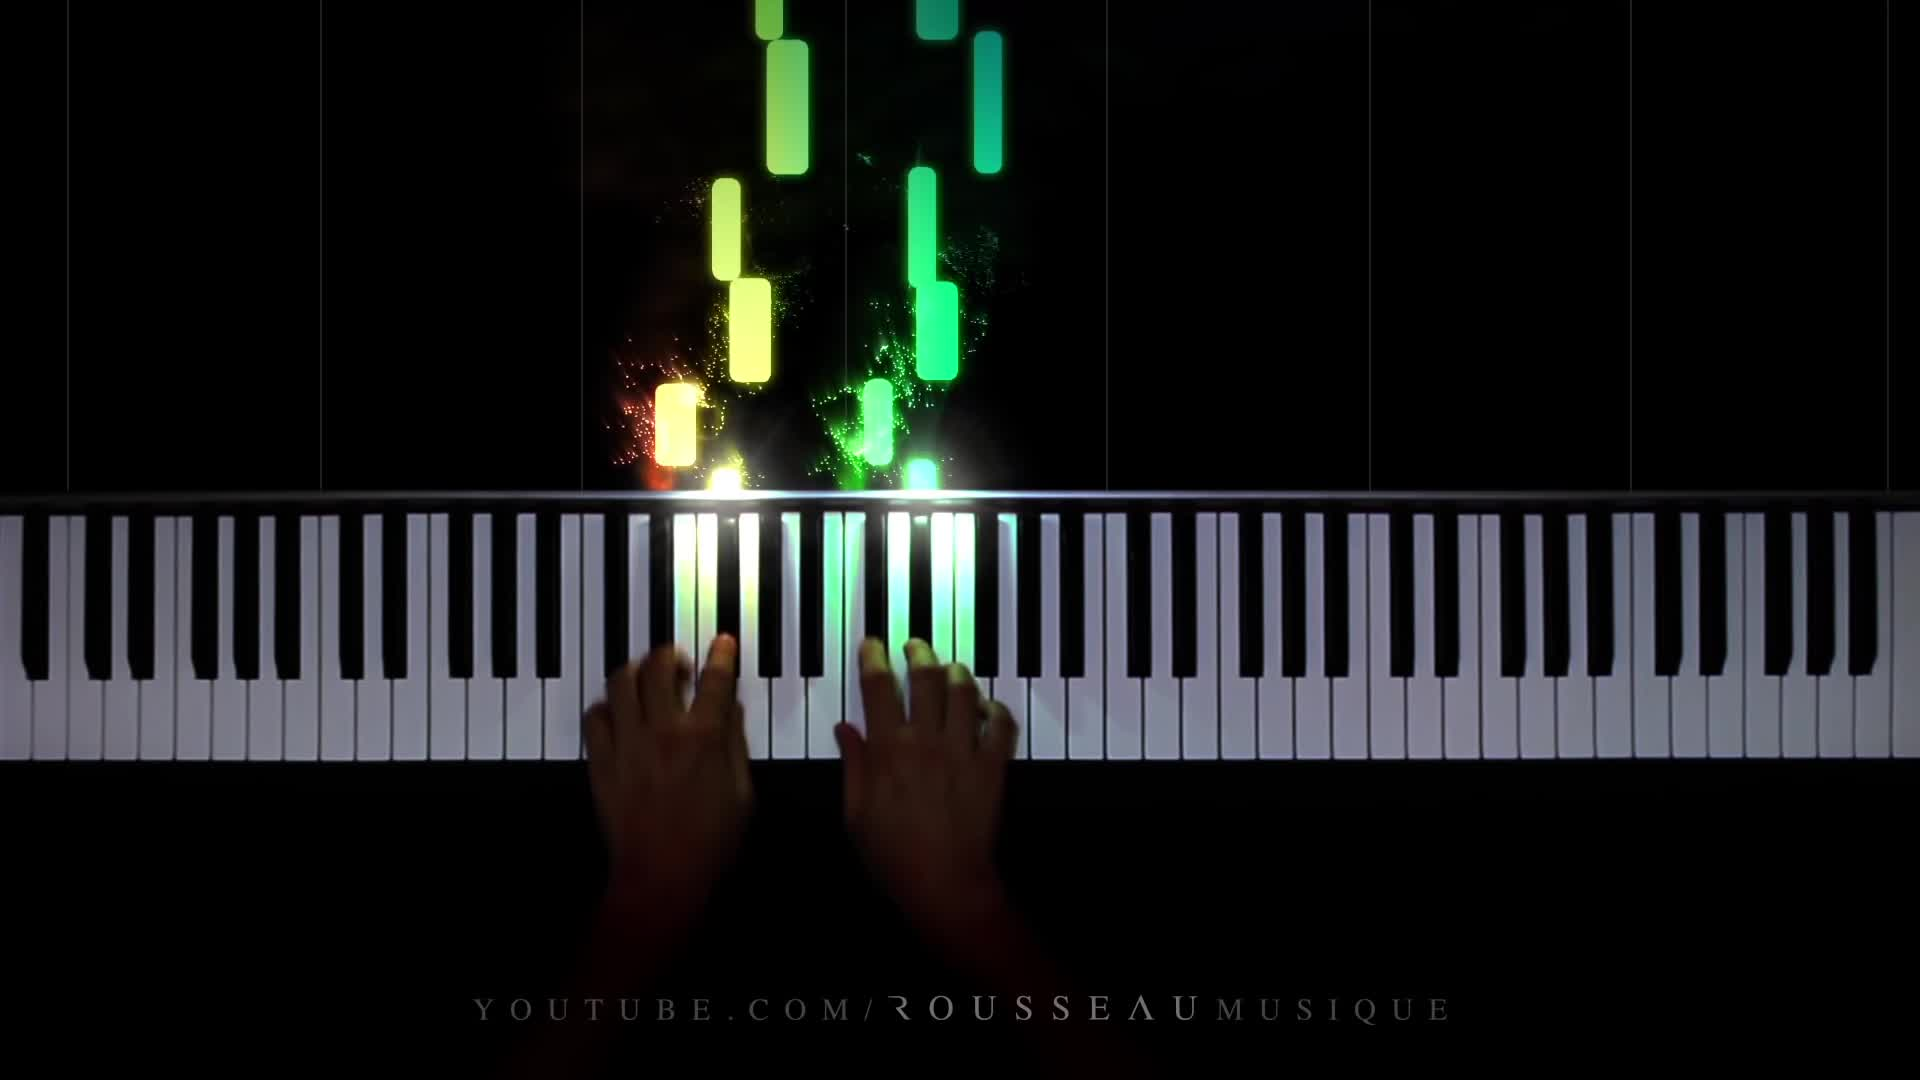left: (583, 632, 753, 860)
right: (833, 632, 1021, 870)
